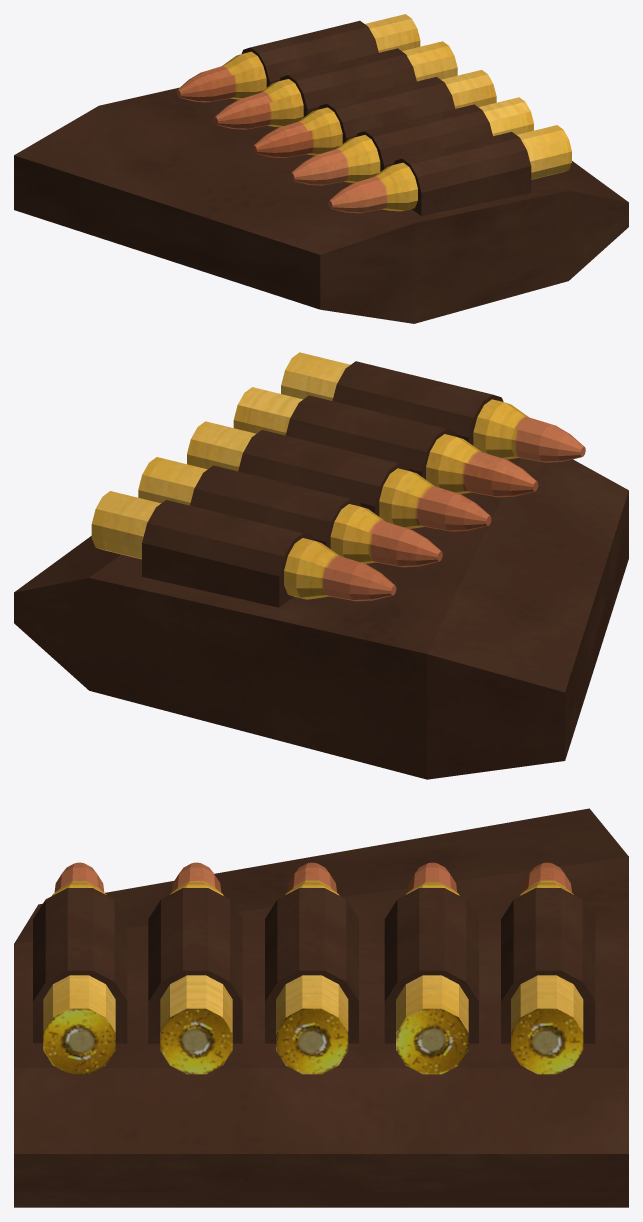
Rendered from bulletloop_ground.fbx.
The picture shows the model from 3 angles, top to bottom: view 1: azimuth 30°, elevation 25°; view 2: azimuth 150°, elevation 25°; view 3: azimuth 270°, elevation 25°; orthographic projection. The views are drawn at different scales.
Visible parts, largest first — view 1: bulletloop_ground; view 2: bulletloop_ground; view 3: bulletloop_ground.
Part boxes in pixels (x1,y1,x2,y2): bulletloop_ground: (14, 14, 628, 323); bulletloop_ground: (14, 352, 628, 779); bulletloop_ground: (14, 808, 628, 1207).
Size of the model in its own units: 0.0728 by 0.0233 by 0.0587.
